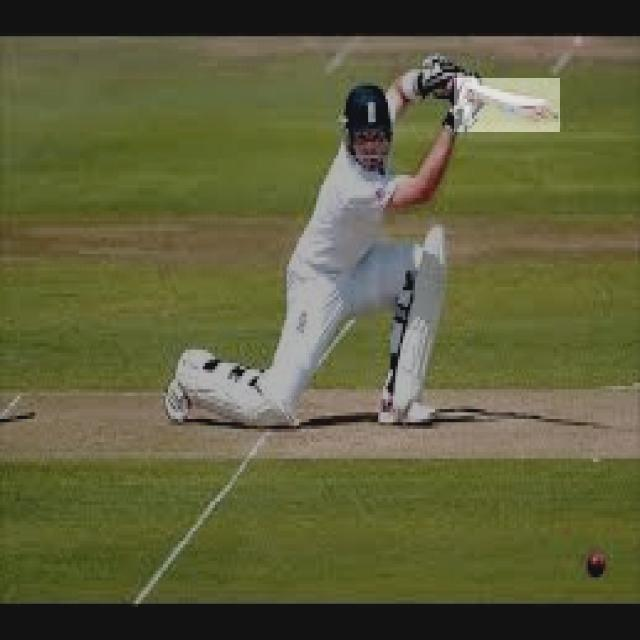bat: (455, 75, 562, 133)
